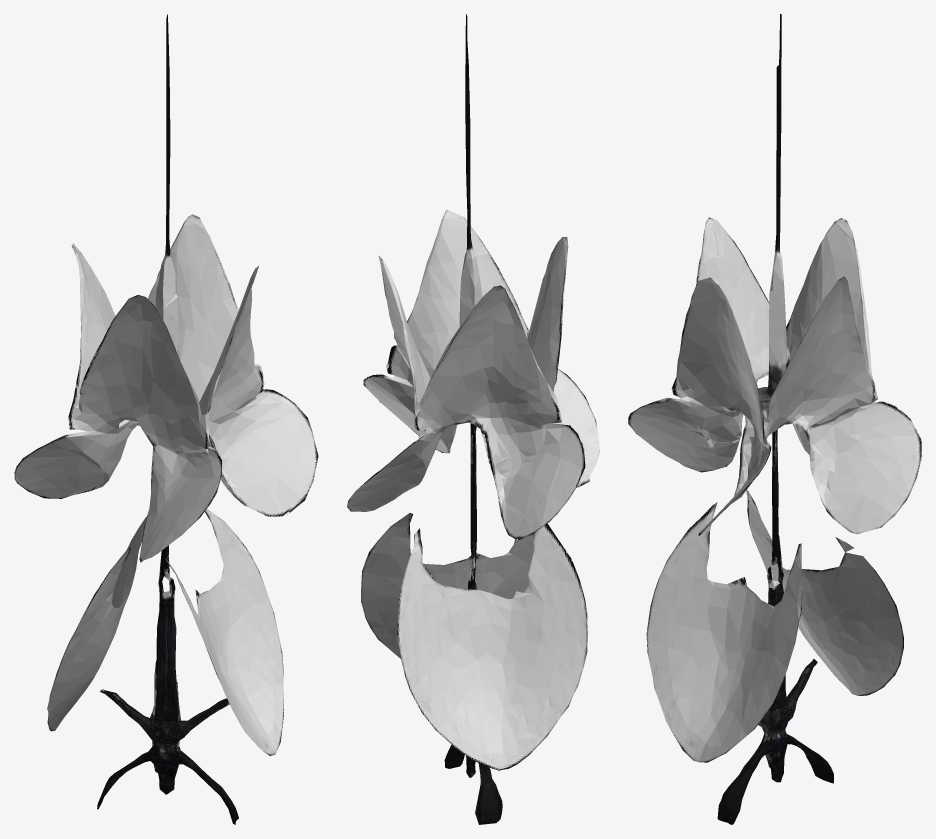
The picture shows the model from 3 angles, left to right: view 1: azimuth 30°, elevation 25°; view 2: azimuth 150°, elevation 25°; view 3: azimuth 270°, elevation 25°; orthographic projection.
Parts seen in each view (by area): view 1: world; view 2: world; view 3: world.
Part boxes in pixels (<box>): world: <box>14,14,318,824</box>; world: <box>347,14,599,824</box>; world: <box>628,14,921,824</box>.
Bounding box in the file's own units: 0.277 × 0.8253 × 0.2782.
Materials: 1 (1 with a texture image).
